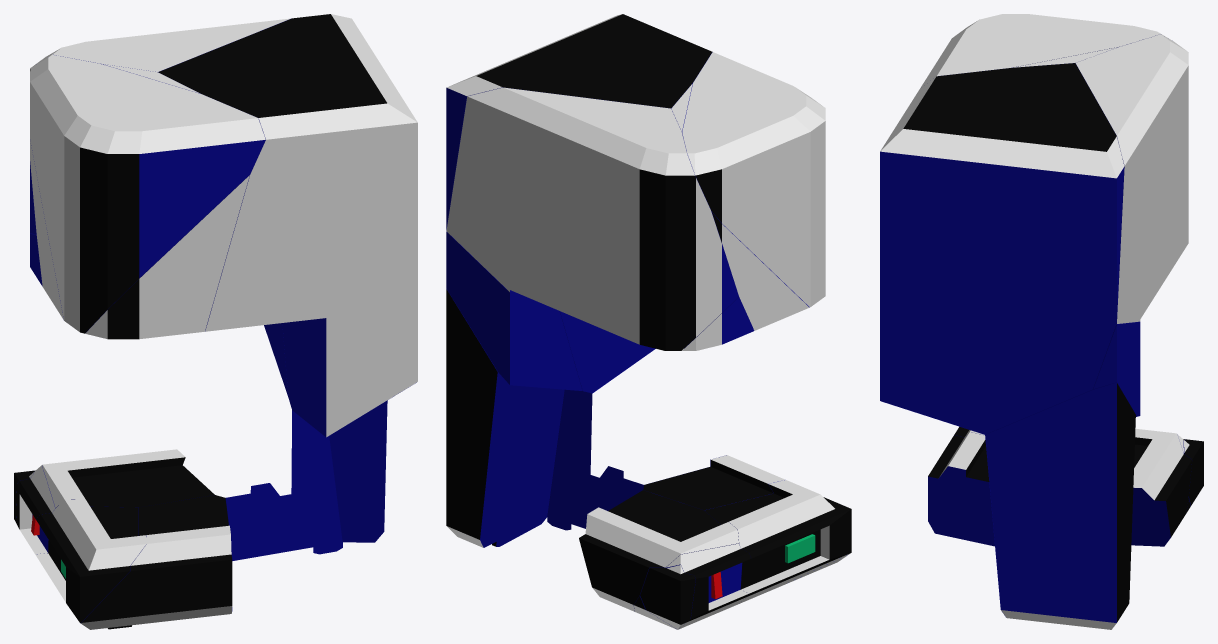
The model's file is FractureCoffeeMachine.fbx.
3 renders of one model, left to right at view 1: azimuth 30°, elevation 25°; view 2: azimuth 150°, elevation 25°; view 3: azimuth 270°, elevation 25°, orthographic. The views are drawn at different scales.
Parts seen in each view (by area): view 1: CoffeMachine_cell.004, CoffeMachine_cell.012, CoffeMachine_cell.009, CoffeMachine_cell.016, CoffeMachine_cell.015, CoffeMachine_cell.001, CoffeMachine_cell.003, CoffeMachine_cell.013, CoffeMachine_cell.002, CoffeMachine_cell.010, CoffeMachine_cell.017; view 2: CoffeMachine_cell.013, CoffeMachine_cell.012, CoffeMachine_cell.014, CoffeMachine_cell.004, CoffeMachine_cell.017, CoffeMachine_cell.003, CoffeMachine_cell.001, CoffeMachine_cell.009, CoffeMachine_cell.010, CoffeMachine_cell.016, CoffeMachine_cell.002, CoffeMachine_cell.005 (+1 smaller); view 3: CoffeMachine_cell.004, CoffeMachine_cell.014, CoffeMachine_cell.013, CoffeMachine_cell.012, CoffeMachine_cell.003, CoffeMachine_cell.009, CoffeMachine_cell.017, CoffeMachine_cell.016, CoffeMachine_cell.005, CoffeMachine_cell.010.
Boxes of the visible parts, x1,y1,x2,y2 form: CoffeMachine_cell.004: (158, 14, 417, 437); CoffeMachine_cell.012: (30, 54, 265, 333); CoffeMachine_cell.009: (225, 382, 416, 611); CoffeMachine_cell.016: (80, 495, 232, 629); CoffeMachine_cell.015: (85, 175, 249, 339); CoffeMachine_cell.001: (35, 499, 146, 623); CoffeMachine_cell.003: (42, 449, 214, 507); CoffeMachine_cell.013: (30, 18, 291, 234); CoffeMachine_cell.002: (16, 465, 55, 554); CoffeMachine_cell.010: (30, 64, 200, 319); CoffeMachine_cell.017: (264, 323, 288, 396); CoffeMachine_cell.013: (446, 87, 738, 350); CoffeMachine_cell.012: (682, 52, 825, 307); CoffeMachine_cell.014: (446, 289, 564, 547); CoffeMachine_cell.004: (446, 14, 712, 393); CoffeMachine_cell.017: (446, 231, 582, 390); CoffeMachine_cell.003: (579, 490, 738, 611); CoffeMachine_cell.001: (704, 480, 851, 604); CoffeMachine_cell.009: (547, 351, 726, 530); CoffeMachine_cell.010: (671, 83, 809, 330); CoffeMachine_cell.016: (643, 455, 849, 584); CoffeMachine_cell.002: (634, 543, 750, 629); CoffeMachine_cell.005: (640, 565, 695, 629); CoffeMachine_cell.004: (880, 63, 1124, 434); CoffeMachine_cell.014: (985, 382, 1135, 629); CoffeMachine_cell.013: (1075, 34, 1188, 323); CoffeMachine_cell.012: (919, 14, 1172, 89); CoffeMachine_cell.003: (1131, 428, 1191, 546); CoffeMachine_cell.009: (883, 402, 1004, 615); CoffeMachine_cell.017: (1093, 321, 1140, 416); CoffeMachine_cell.016: (928, 432, 989, 481); CoffeMachine_cell.005: (1184, 439, 1203, 505); CoffeMachine_cell.010: (1012, 47, 1118, 67).
Bounding box in the file's own units: 28.43 × 38.6 × 23.7.
